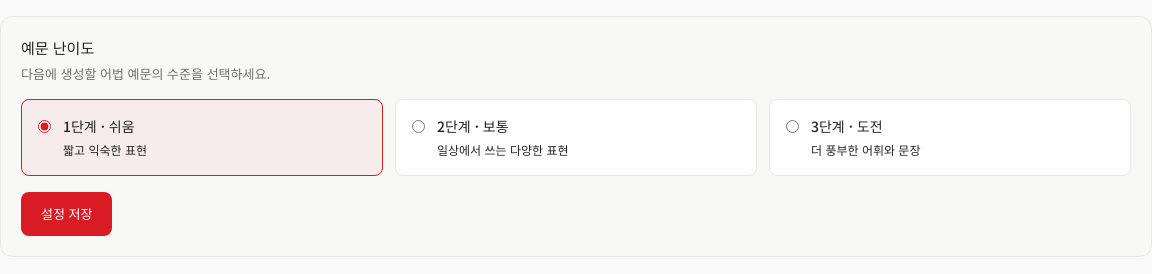
마이페이지 예문 난이도 설정 › 저장 실패를 알리고 선택한 난이도를 유지해 재시도할 수 있다
Click the radio button labelled "2단계 · 보통 일상에서 쓰는 다양한 표현" at [418, 126], box [412,120,425,133]
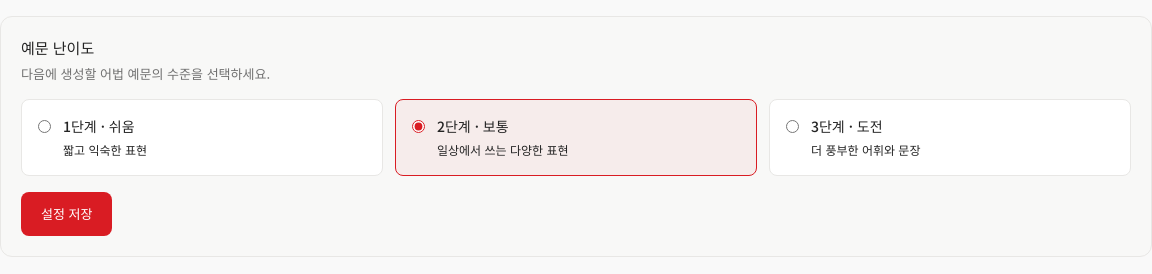
Click the button "설정 저장" at [67, 214], box [21,192,112,236]
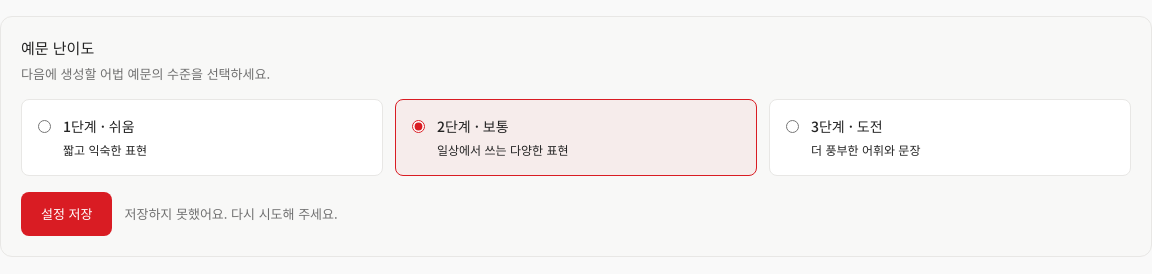
Expected: the radio button labelled "2단계 · 보통 일상에서 쓰는 다양한 표현" is checked, [412,120,425,133]
Expected: the message shows "저장", [124,204,338,224]
